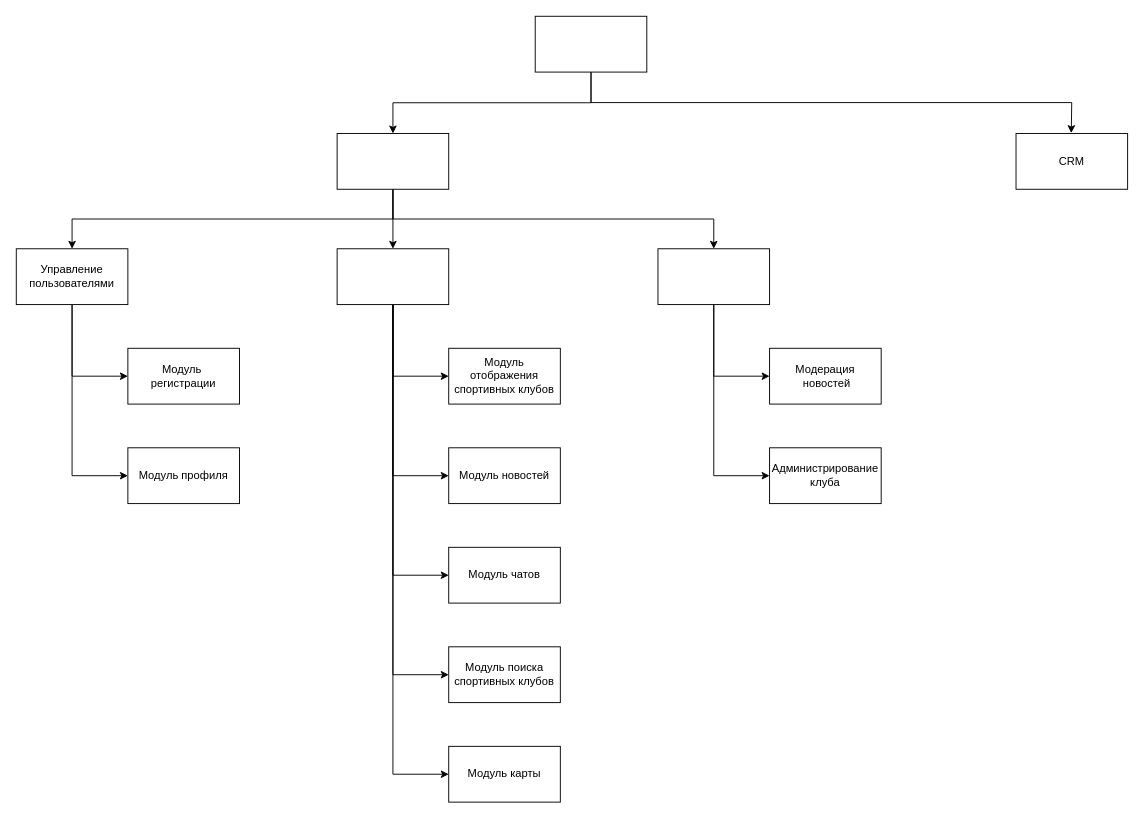
Some shapes in this 1144 by 818 pixel diagram are drawn without their labels. Each missing label, with the box of its shape:
Навигация и контент: (336, 248, 449, 305)
Основная подсистема: (336, 133, 449, 189)
Проект: (534, 15, 647, 72)
Управление контентом: (657, 248, 770, 305)
